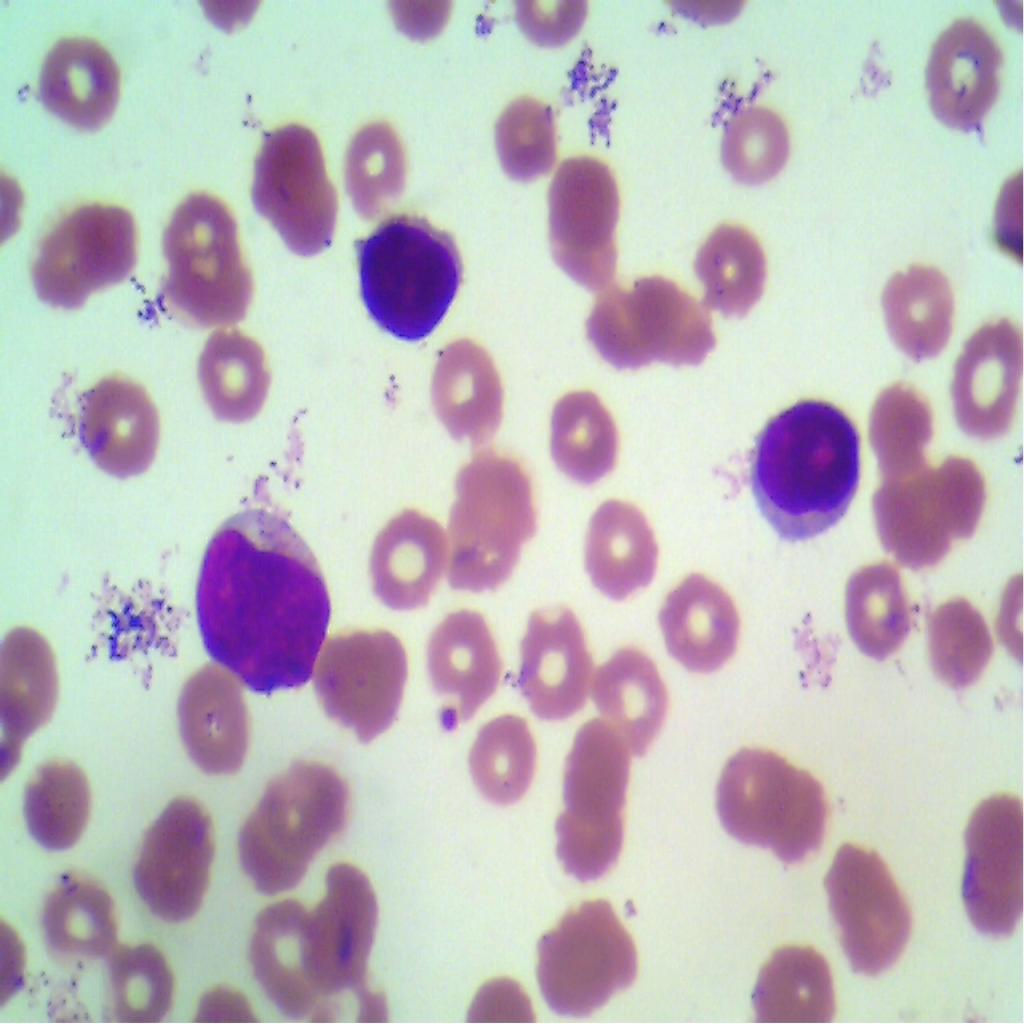Eritrosit: (154, 182, 260, 328), (538, 892, 650, 1022), (246, 112, 342, 261), (20, 17, 134, 142), (826, 844, 928, 983), (442, 451, 538, 591), (134, 798, 226, 935), (63, 374, 166, 492), (312, 619, 410, 740), (538, 148, 623, 282), (304, 862, 390, 994), (918, 15, 1000, 147), (513, 588, 593, 721), (369, 495, 453, 619), (539, 378, 633, 488), (654, 565, 738, 687), (949, 790, 1023, 928), (426, 341, 518, 450), (418, 594, 504, 708), (21, 755, 108, 867), (586, 489, 666, 608), (951, 315, 1023, 447), (914, 586, 1000, 696), (249, 898, 328, 1016), (468, 707, 551, 818), (173, 672, 255, 782), (31, 867, 124, 962), (189, 328, 278, 426), (881, 260, 959, 371), (713, 95, 795, 198), (0, 628, 74, 742), (493, 81, 568, 188), (64, 189, 141, 291), (694, 225, 778, 318), (552, 797, 638, 887), (635, 268, 718, 360), (600, 649, 674, 752), (756, 772, 836, 867), (98, 931, 178, 1023), (751, 942, 841, 1023), (235, 784, 303, 889), (26, 216, 95, 314), (346, 112, 414, 211), (873, 472, 944, 566), (276, 762, 350, 851), (866, 384, 932, 481), (712, 740, 774, 842), (583, 275, 651, 368), (564, 724, 634, 814), (924, 452, 990, 547), (846, 568, 906, 666)
Limfoblast: (184, 506, 339, 698), (742, 372, 858, 552), (349, 208, 468, 367)
Platelet: (438, 691, 468, 745)
